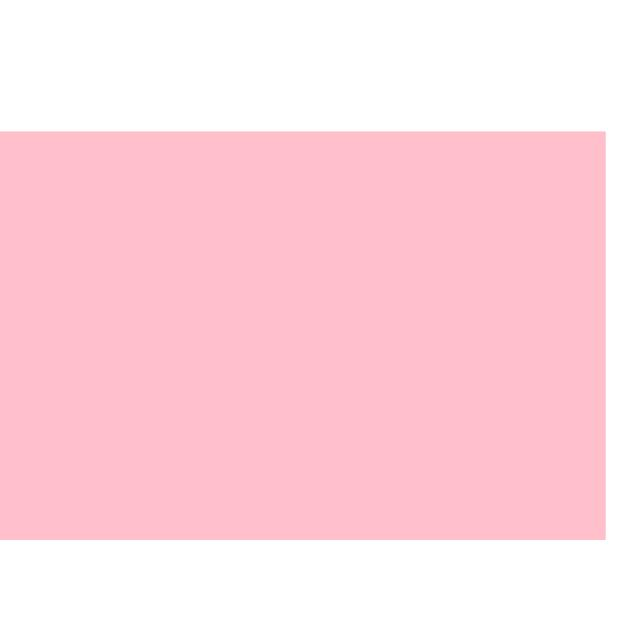Rectangle: (1, 101, 632, 572)
